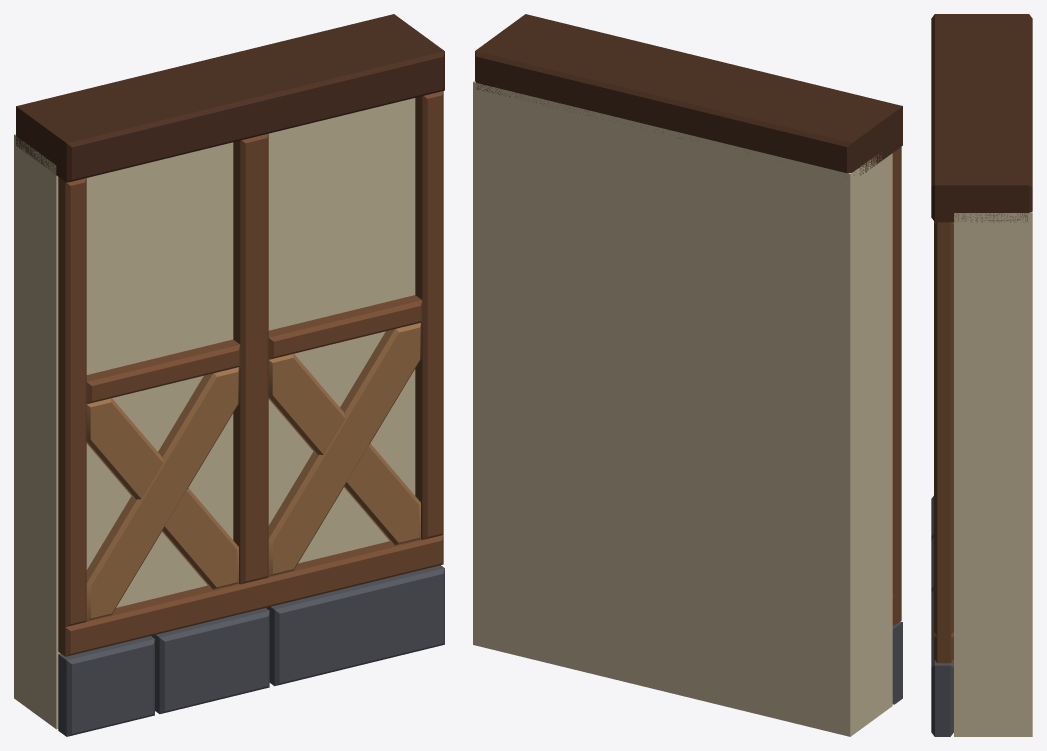
The model's file is WallStraight_10.glb.
3 renders of one model, left to right at view 1: azimuth 30°, elevation 25°; view 2: azimuth 150°, elevation 25°; view 3: azimuth 270°, elevation 25°, orthographic. The views are drawn at different scales.
Visible parts, largest first — view 1: WallStraight_10; view 2: WallStraight_10; view 3: WallStraight_10.
Boxes of the visible parts, box(x1,y1,x2,y2) form: WallStraight_10: box(14, 14, 444, 736); WallStraight_10: box(473, 14, 902, 736); WallStraight_10: box(931, 14, 1032, 736).
Bounding box in the file's own units: 8 × 12 × 2.
